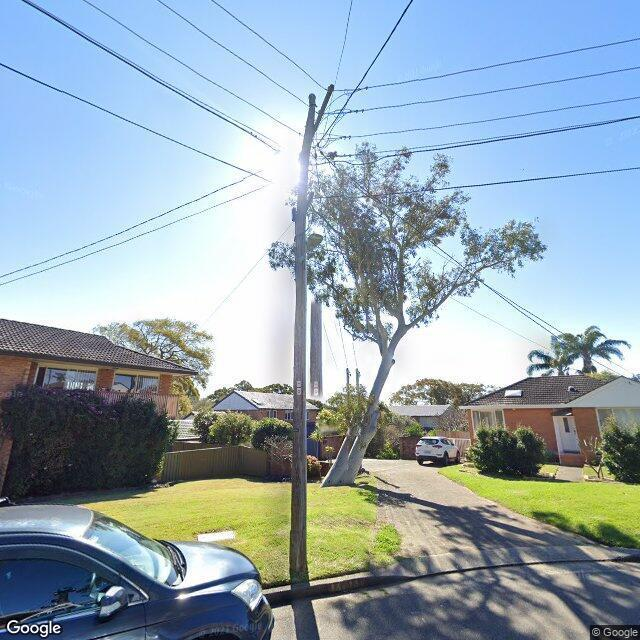crossarm: (299, 82, 335, 164)
timber-pole: (290, 90, 316, 581)
